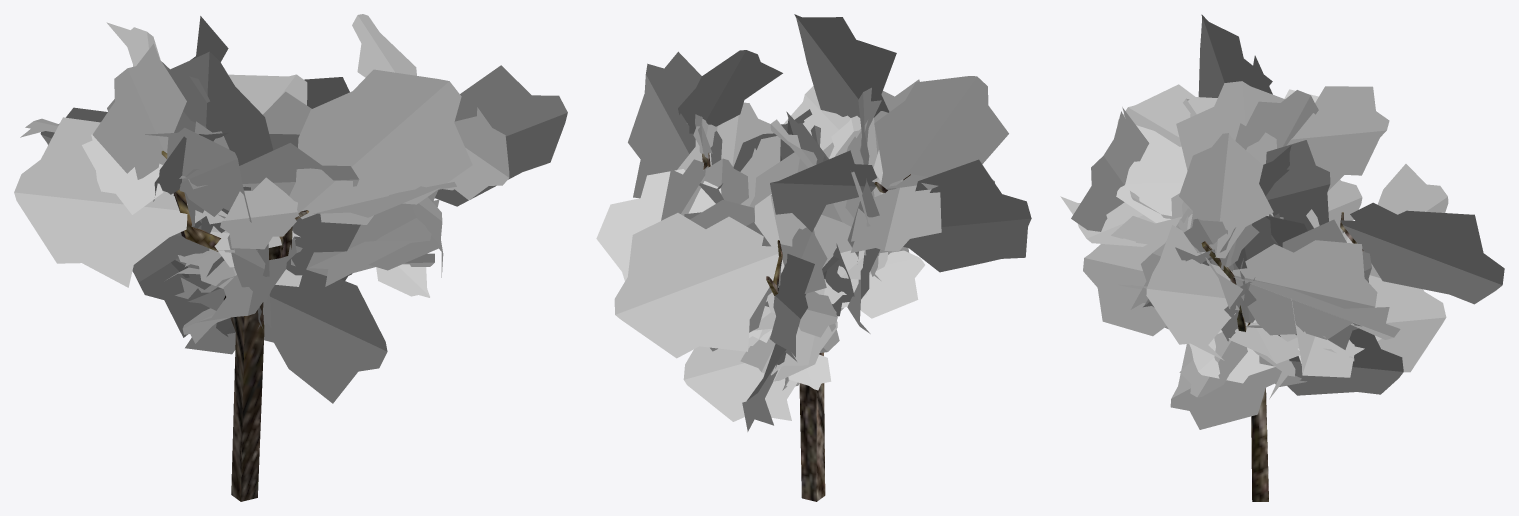
Rendered from mdl_Pinetree updated.fbx.
3 views of the same model, side by side, from view 1: azimuth 30°, elevation 25°; view 2: azimuth 150°, elevation 25°; view 3: azimuth 270°, elevation 25° (orthographic). The views are drawn at different scales.
Parts seen in each view (by area): view 1: Cube|Plane|Dupli|56, Cube|Plane|Dupli|72, Cube|Plane|Dupli|16, Cube|Plane|Dupli|49, Cube, Cube|Plane|Dupli|20, Cube|Plane|Dupli|41, Cube|Plane|Dupli|68, Cube|Plane|Dupli|53, Cube|Plane|Dupli|38, Cube|Plane|Dupli|71, Cube|Plane|Dupli|51 (+23 smaller); view 2: Cube|Plane|Dupli|63, Cube|Plane|Dupli|49, Cube|Plane|Dupli|72, Cube|Plane|Dupli|56, Cube|Plane|Dupli|20, Cube|Plane|Dupli|, Cube|Plane|Dupli|74, Cube|Plane|Dupli|50, Cube|Plane|Dupli|29, Cube, Cube|Plane|Dupli|28, Cube|Plane|Dupli|33 (+25 smaller); view 3: Cube|Plane|Dupli|63, Cube|Plane|Dupli|40, Cube|Plane|Dupli|29, Cube|Plane|Dupli|20, Cube|Plane|Dupli|35, Cube|Plane|Dupli|74, Cube|Plane|Dupli|41, Cube|Plane|Dupli|2, Cube|Plane|Dupli|71, Cube|Plane|Dupli|56, Cube|Plane|Dupli|16, Cube|Plane|Dupli|69 (+22 smaller).
Part boxes in pixels (x1,y1,x2,y2): Cube|Plane|Dupli|56: [289, 69, 472, 224]; Cube|Plane|Dupli|72: [14, 117, 187, 287]; Cube|Plane|Dupli|16: [264, 269, 387, 403]; Cube|Plane|Dupli|49: [92, 43, 186, 179]; Cube: [161, 151, 308, 501]; Cube|Plane|Dupli|20: [435, 65, 567, 206]; Cube|Plane|Dupli|41: [167, 51, 273, 233]; Cube|Plane|Dupli|68: [145, 127, 251, 222]; Cube|Plane|Dupli|53: [220, 177, 298, 249]; Cube|Plane|Dupli|38: [448, 107, 509, 200]; Cube|Plane|Dupli|71: [182, 143, 359, 195]; Cube|Plane|Dupli|51: [291, 189, 439, 275]; Cube|Plane|Dupli|63: [614, 213, 784, 358]; Cube|Plane|Dupli|49: [874, 76, 1008, 187]; Cube|Plane|Dupli|72: [903, 159, 1031, 272]; Cube|Plane|Dupli|56: [794, 14, 896, 117]; Cube|Plane|Dupli|20: [628, 51, 722, 198]; Cube|Plane|Dupli|: [683, 346, 797, 421]; Cube|Plane|Dupli|74: [770, 150, 876, 232]; Cube|Plane|Dupli|50: [850, 179, 941, 252]; Cube|Plane|Dupli|29: [678, 50, 782, 133]; Cube: [702, 153, 910, 501]; Cube|Plane|Dupli|28: [596, 169, 721, 280]; Cube|Plane|Dupli|33: [677, 102, 780, 206]; Cube|Plane|Dupli|63: [1341, 202, 1504, 304]; Cube|Plane|Dupli|40: [1230, 240, 1377, 339]; Cube|Plane|Dupli|29: [1179, 133, 1273, 258]; Cube|Plane|Dupli|20: [1146, 225, 1235, 360]; Cube|Plane|Dupli|35: [1083, 214, 1232, 336]; Cube|Plane|Dupli|74: [1286, 86, 1389, 190]; Cube|Plane|Dupli|41: [1176, 81, 1284, 170]; Cube|Plane|Dupli|2: [1368, 275, 1446, 372]; Cube|Plane|Dupli|71: [1116, 119, 1187, 222]; Cube|Plane|Dupli|56: [1071, 107, 1149, 231]; Cube|Plane|Dupli|16: [1170, 344, 1281, 429]; Cube|Plane|Dupli|69: [1265, 140, 1330, 230].
Bounding box in the file's own units: 616 × 579 × 554.
